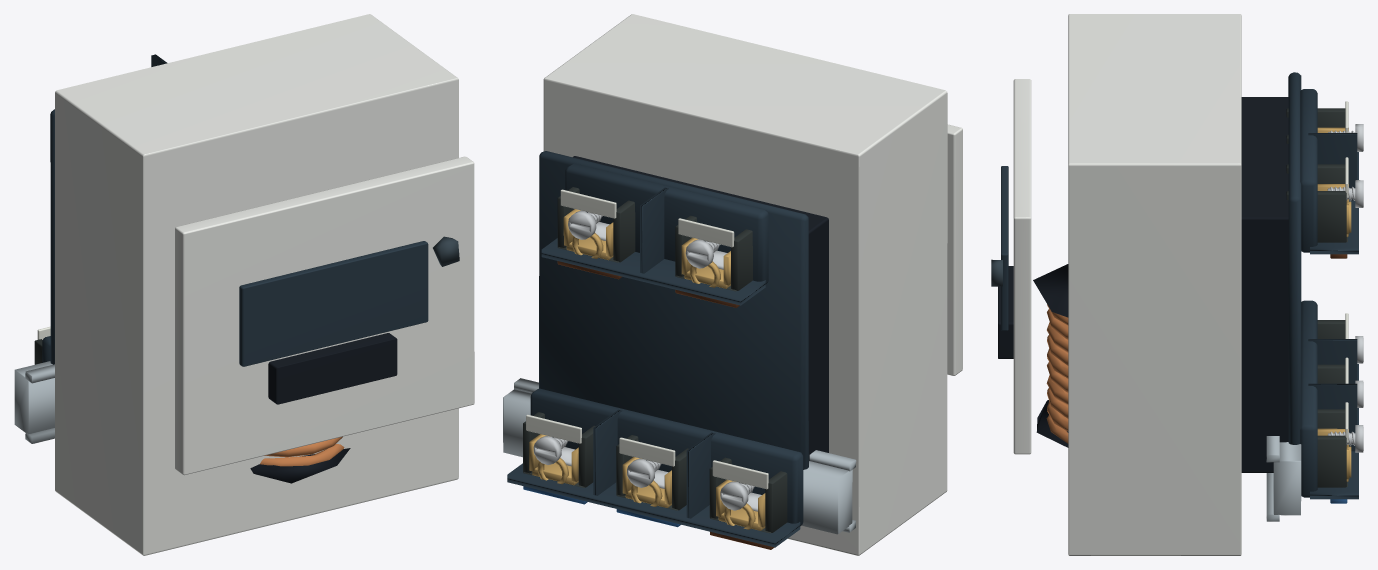
Rendered from relay_default.low.glb.
3 renders of one model, left to right at view 1: azimuth 30°, elevation 25°; view 2: azimuth 150°, elevation 25°; view 3: azimuth 270°, elevation 25°, orthographic. The views are drawn at different scales.
Parts seen in each view (by area): view 1: part:body, part:cover, part:mounting · Original 2a8198d3, part:terminals · Original a463fd81, part:coil, part:coil · Original 3ff2d46d, part:body.001; view 2: part:body, part:terminals · Original a463fd81, part:mounting · Original 2a8198d3, part:cover, detail:terminal-clamp:A2 · Detail moulded engineering polyme, detail:terminal-clamp:COM · Detail moulded engineering polym, detail:terminal-clamp:A1 · Detail moulded engineering polyme, detail:terminal-clamp:NC · Detail moulded engineering polyme, detail:terminal-clamp:NO · Detail moulded engineering polyme, detail:terminal-clamp:A2 · Detail machined brass, detail:terminal-clamp:COM · Detail machined brass, detail:terminal-clamp:NO · Detail machined brass (+12 smaller); view 3: part:body, part:terminals · Original a463fd81, part:cover, part:mounting · Original 2a8198d3, part:coil, detail:terminal-clamp:A2 · Detail moulded engineering polyme, detail:terminal-clamp:NC · Detail moulded engineering polyme, part:coil · Original 3ff2d46d, detail:terminal-clamp:A1 · Detail moulded engineering polyme, detail:terminal-clamp:NO · Detail moulded engineering polyme, detail:terminal-clamp:COM · Detail moulded engineering polym.
Part boxes in pixels (bbox=[...]): part:body: bbox=[55, 14, 458, 555]; part:cover: bbox=[175, 156, 474, 475]; part:mounting · Original 2a8198d3: bbox=[14, 361, 54, 443]; part:terminals · Original a463fd81: bbox=[42, 54, 167, 364]; part:coil: bbox=[260, 436, 344, 466]; part:coil · Original 3ff2d46d: bbox=[250, 448, 350, 483]; part:body.001: bbox=[433, 236, 459, 266]; part:body: bbox=[543, 14, 947, 555]; part:terminals · Original a463fd81: bbox=[507, 151, 808, 547]; part:mounting · Original 2a8198d3: bbox=[503, 378, 856, 534]; part:cover: bbox=[947, 124, 962, 375]; detail:terminal-clamp:A2 · Detail moulded engineering polyme: bbox=[557, 187, 635, 262]; detail:terminal-clamp:COM · Detail moulded engineering polym: bbox=[709, 457, 787, 533]; detail:terminal-clamp:A1 · Detail moulded engineering polyme: bbox=[675, 215, 752, 291]; detail:terminal-clamp:NC · Detail moulded engineering polyme: bbox=[523, 412, 595, 487]; detail:terminal-clamp:NO · Detail moulded engineering polyme: bbox=[616, 435, 688, 510]; detail:terminal-clamp:A2 · Detail machined brass: bbox=[563, 209, 613, 260]; detail:terminal-clamp:COM · Detail machined brass: bbox=[716, 479, 765, 530]; detail:terminal-clamp:NO · Detail machined brass: bbox=[622, 457, 671, 507]; part:body: bbox=[1068, 14, 1288, 555]; part:terminals · Original a463fd81: bbox=[1288, 72, 1358, 499]; part:cover: bbox=[998, 79, 1031, 454]; part:mounting · Original 2a8198d3: bbox=[1266, 436, 1301, 521]; part:coil: bbox=[1046, 304, 1068, 443]; detail:terminal-clamp:A2 · Detail moulded engineering polyme: bbox=[1286, 164, 1347, 242]; detail:terminal-clamp:NC · Detail moulded engineering polyme: bbox=[1317, 409, 1347, 487]; part:coil · Original 3ff2d46d: bbox=[1033, 264, 1068, 447]; detail:terminal-clamp:A1 · Detail moulded engineering polyme: bbox=[1286, 108, 1345, 143]; detail:terminal-clamp:NO · Detail moulded engineering polyme: bbox=[1317, 364, 1345, 383]; detail:terminal-clamp:COM · Detail moulded engineering polym: bbox=[1317, 320, 1345, 338].
Bounding box in the file's own units: 0.7009 × 0.8007 × 0.6883.
